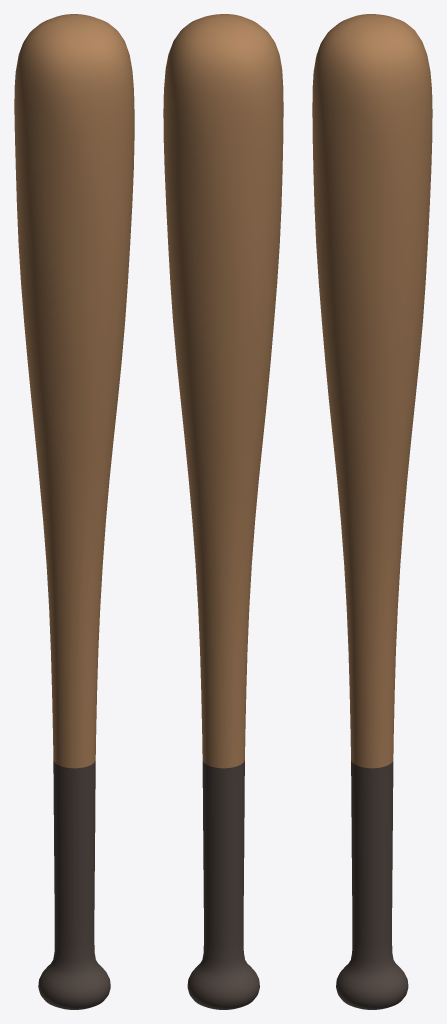
File: TungSahur_Club.fbx
The picture shows the model from 3 angles, left to right: view 1: azimuth 30°, elevation 25°; view 2: azimuth 150°, elevation 25°; view 3: azimuth 330°, elevation 25°; orthographic projection.
Visible parts, largest first — view 1: TungSahur_Club; view 2: TungSahur_Club; view 3: TungSahur_Club.
Boxes of the visible parts, x1,y1,x2,y2 form: TungSahur_Club: (14, 14, 134, 1009); TungSahur_Club: (163, 14, 283, 1009); TungSahur_Club: (312, 14, 432, 1009).
Bounding box in the file's own units: 0.112 × 1.01 × 0.112.
